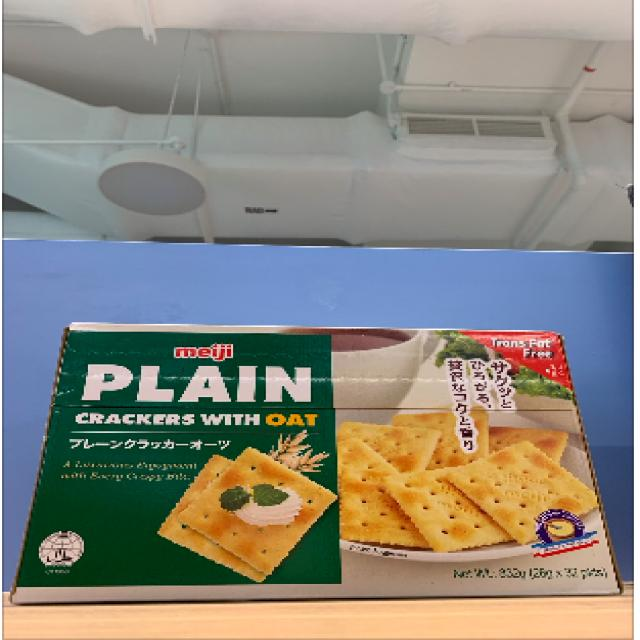object_name: (37, 325, 610, 604)
